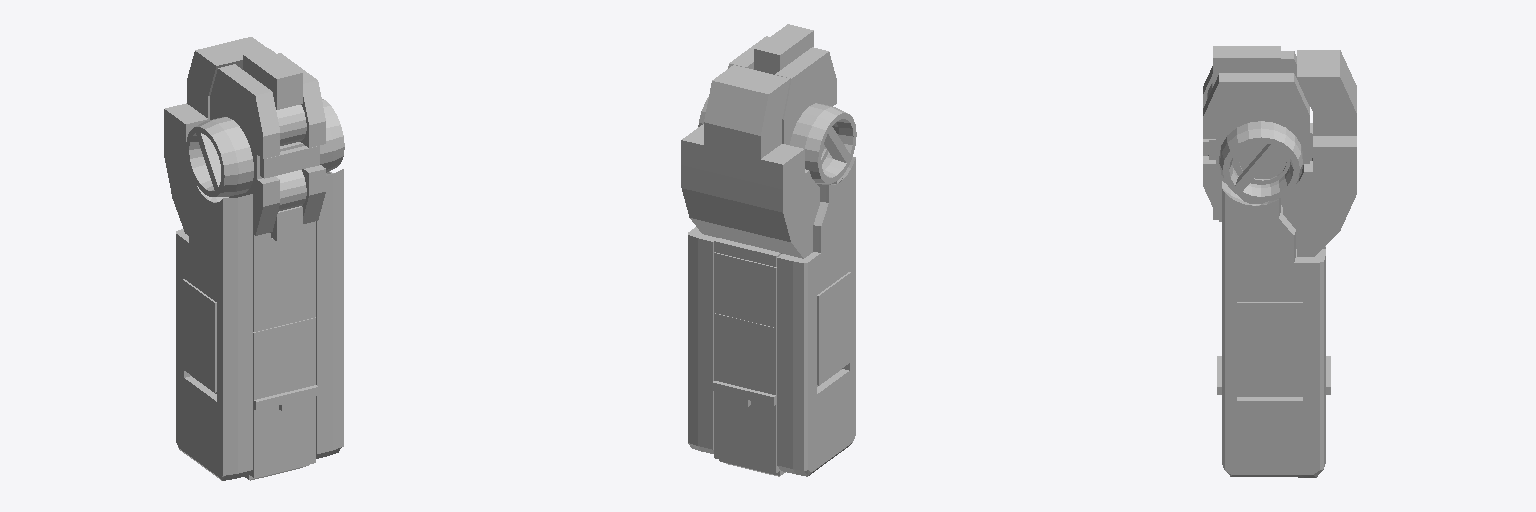
The model's file is drighthand.obj.
3 renders of one model, left to right at view 1: azimuth 30°, elevation 25°; view 2: azimuth 150°, elevation 25°; view 3: azimuth 270°, elevation 25°, orthographic.
Bounding box in the file's own units: 1.86 × 5.82 × 1.98.